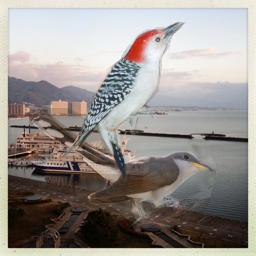Cuckoo: (29, 108, 216, 228)
Woodpecker: (62, 22, 186, 183)
